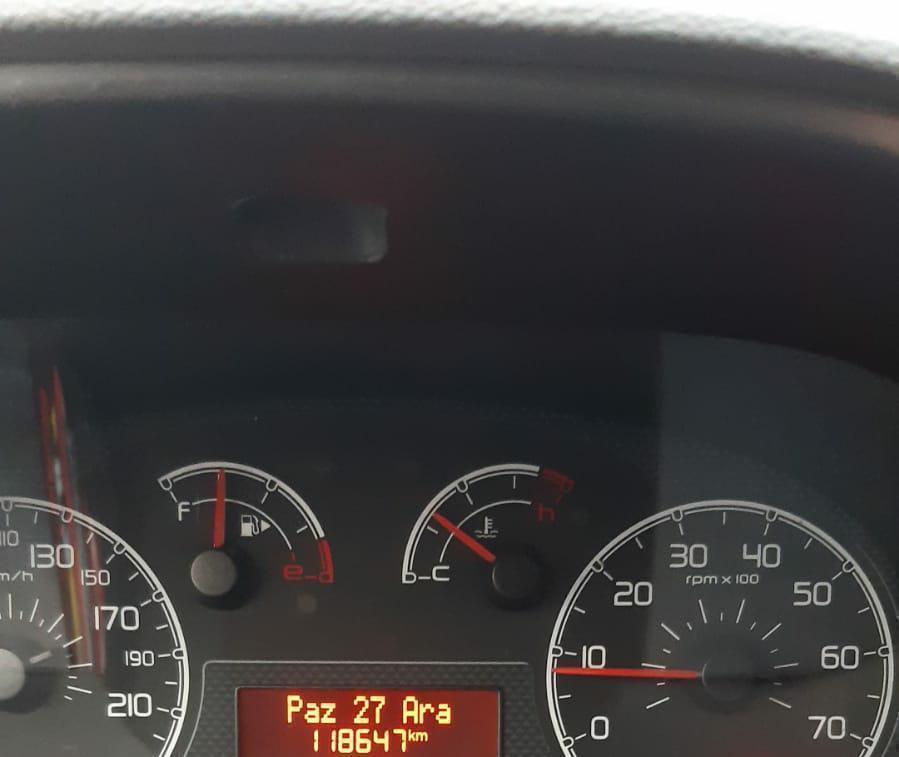1: (309, 726, 323, 754), (328, 728, 338, 754)
2: (354, 693, 369, 725)
4: (372, 728, 390, 754)
6: (355, 726, 371, 754)
7: (369, 692, 385, 725), (392, 726, 406, 753)
8: (338, 727, 353, 754)
X: (286, 694, 304, 723), (402, 694, 418, 724), (320, 701, 336, 724), (303, 701, 319, 724), (419, 702, 434, 724), (437, 703, 451, 725), (415, 730, 427, 742), (407, 728, 415, 742)
odometer: (232, 684, 502, 756)
